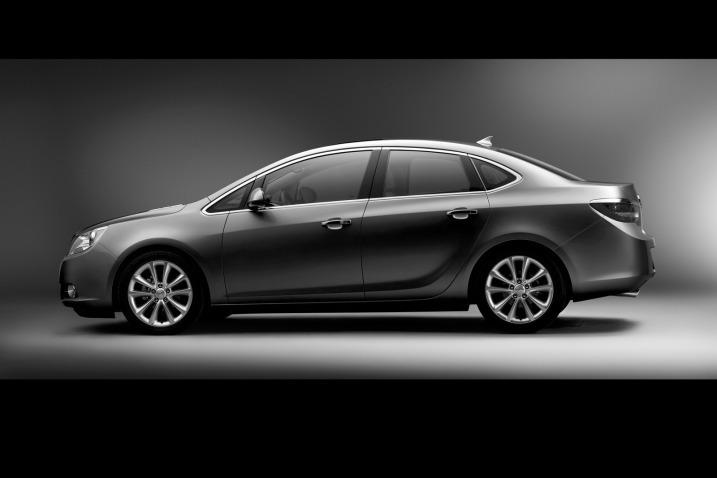car: (60, 135, 657, 336)
